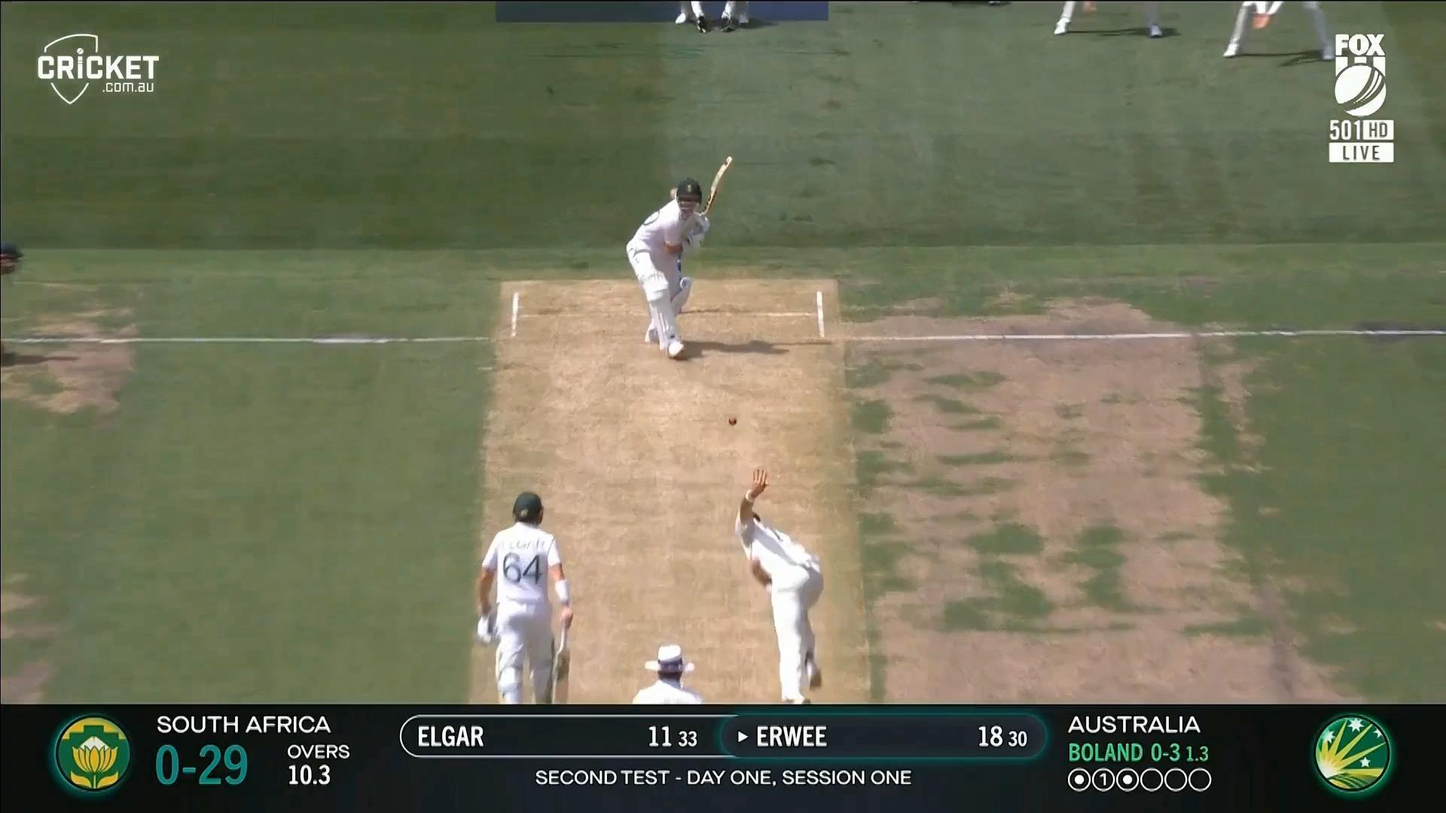BM 1: (626, 152, 736, 359)
BO: (734, 465, 827, 704)
